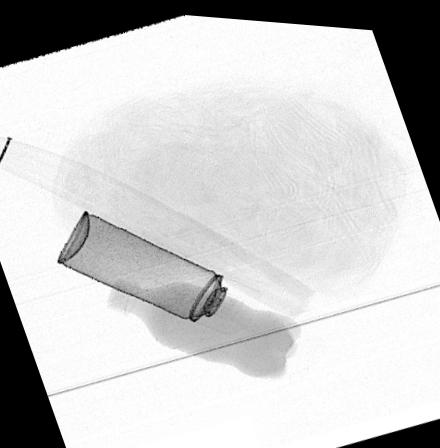Sprayer: (56, 207, 262, 331)
